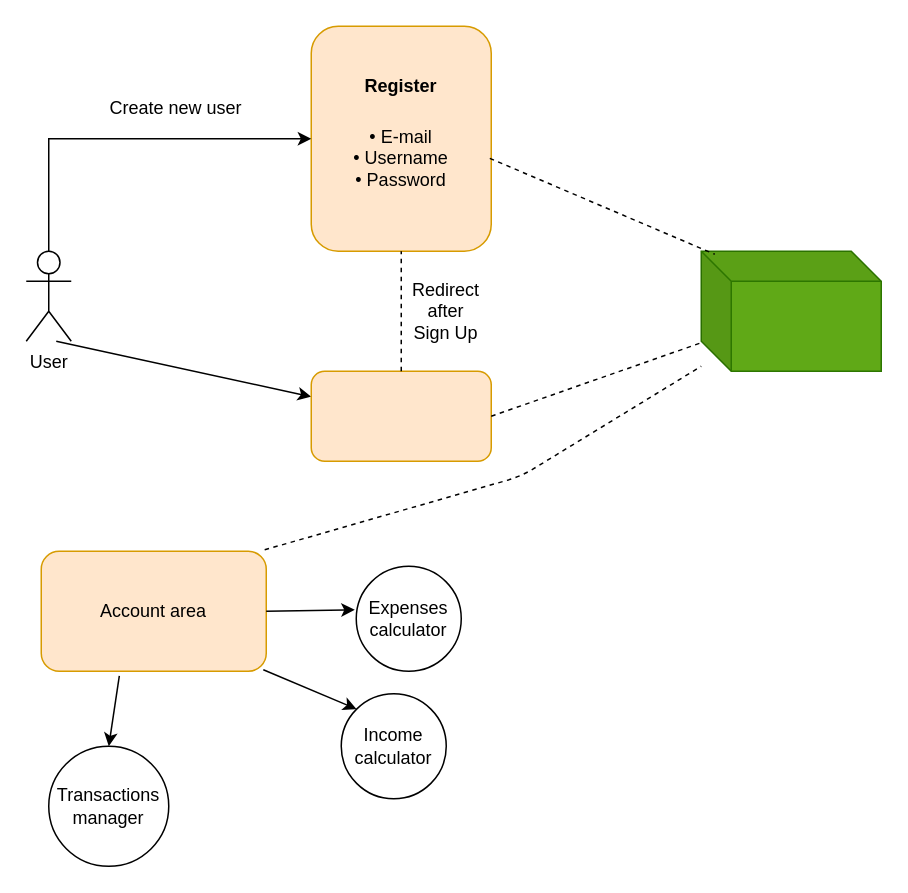
This 908x893 diagram has some shape labels left out. Here are the shapes that lost their labels. From the top down, the centre of each, then its label:
pixel 790 310: PSK Node procesing SWARMs
pixel 400 415: Login
